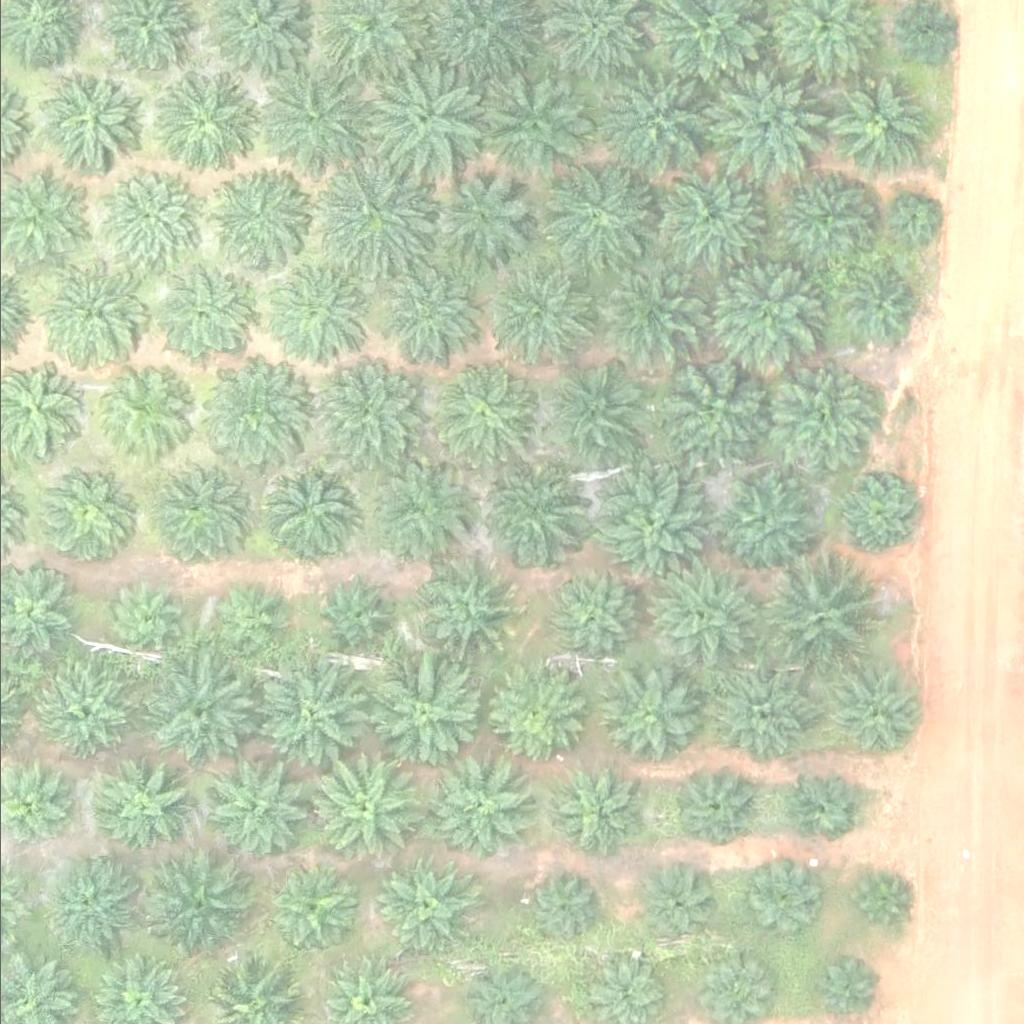Kelapa_Sawit: (595, 52, 721, 177), (364, 62, 490, 187), (533, 157, 659, 282), (308, 152, 434, 277), (760, 357, 886, 482), (649, 345, 775, 470), (302, 350, 428, 475), (585, 465, 711, 590), (759, 556, 885, 681), (636, 552, 762, 677), (360, 654, 486, 779), (247, 654, 373, 779), (300, 746, 426, 871), (250, 58, 376, 183), (642, 153, 767, 278), (708, 66, 821, 179), (476, 67, 589, 180), (420, 162, 533, 275), (366, 261, 479, 374), (143, 656, 256, 769), (191, 353, 304, 466), (258, 249, 371, 362), (139, 847, 253, 959), (705, 255, 818, 367), (593, 256, 706, 368), (826, 77, 927, 177), (772, 166, 873, 266), (538, 365, 639, 465), (437, 366, 538, 466), (482, 473, 583, 573), (377, 461, 478, 561), (414, 564, 515, 664), (92, 755, 193, 855), (34, 661, 135, 761), (260, 457, 361, 557), (148, 459, 249, 559), (36, 467, 137, 567), (91, 362, 192, 462), (150, 264, 251, 364), (39, 262, 140, 362), (206, 165, 307, 265), (714, 471, 814, 571), (822, 661, 922, 761), (706, 665, 806, 765), (599, 665, 699, 765), (482, 667, 582, 767), (426, 758, 526, 858), (375, 852, 475, 952), (207, 760, 307, 860), (98, 167, 198, 267), (149, 70, 249, 170), (39, 70, 139, 170), (495, 268, 583, 356), (548, 767, 636, 855), (263, 865, 351, 953), (46, 859, 134, 947), (669, 762, 757, 849), (544, 573, 632, 660), (642, 866, 718, 941), (523, 871, 599, 946), (841, 478, 917, 553), (781, 766, 857, 841), (740, 864, 815, 939), (107, 583, 182, 658), (211, 582, 286, 657), (839, 269, 914, 344), (314, 575, 389, 650), (846, 869, 909, 931), (813, 959, 876, 1021), (885, 194, 935, 244)
